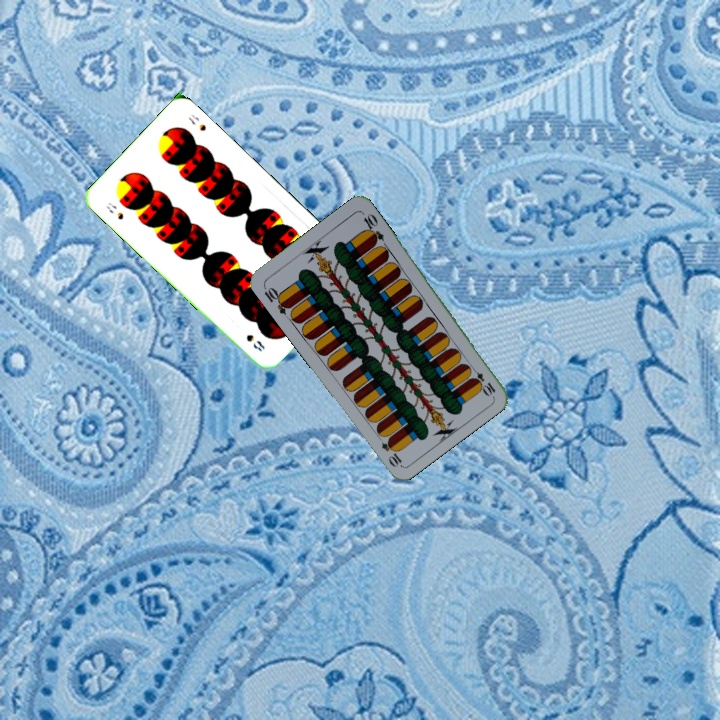E10: (260, 282, 293, 317), (466, 362, 498, 398)
S8: (102, 198, 126, 222)
